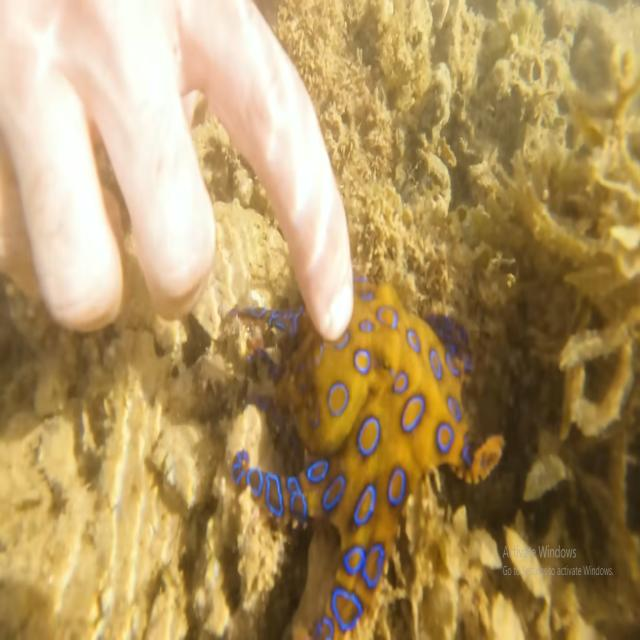blue_ringed_octopus: (220, 273, 505, 639)
